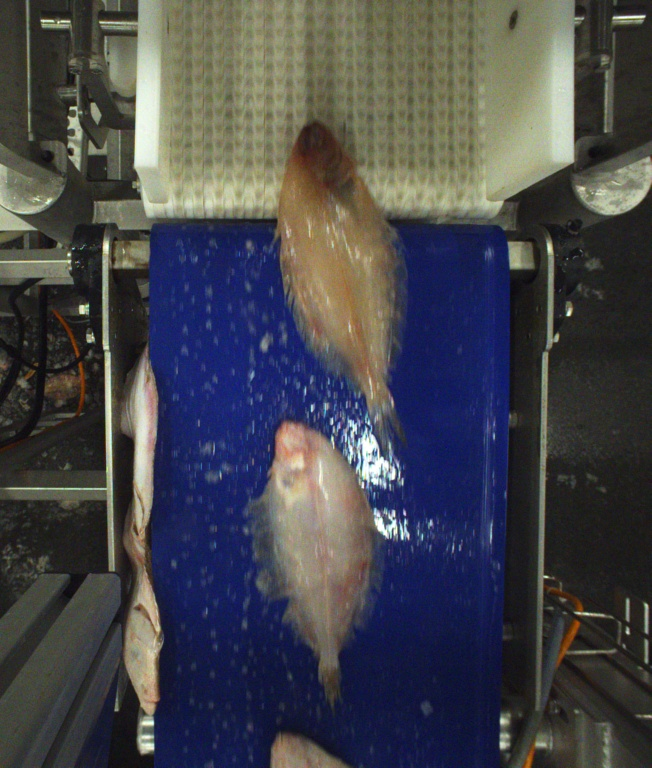WIT: (274, 117, 406, 459)
